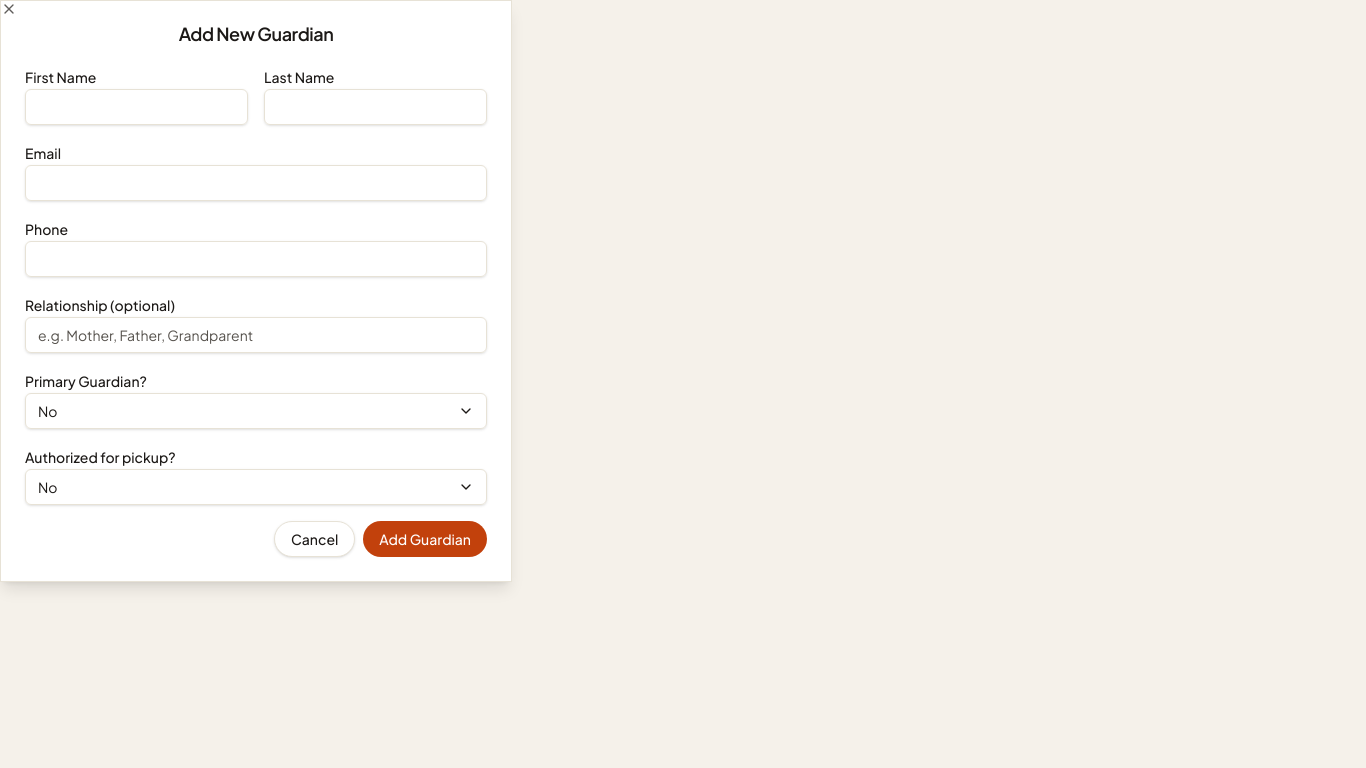
Test: ChildProfilePage › swallows rollback failures and still surfaces the original link error
The width and height of the screenshot is (1366, 768).
Type "Jordan" into the field labelled "First Name" at (136, 107), box x1=25 y1=89 x2=248 y2=125
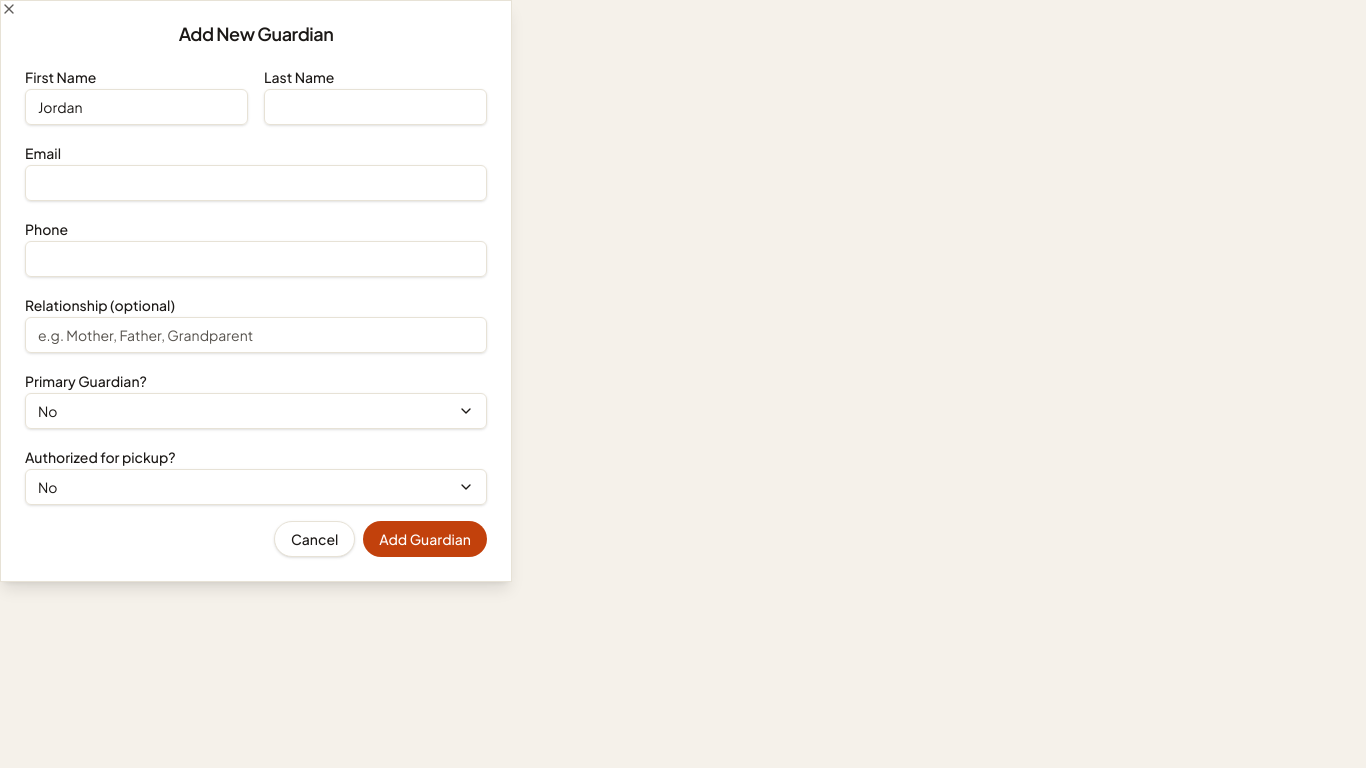
Type "Lee" into the field labelled "Last Name" at (376, 107), box x1=264 y1=89 x2=487 y2=125
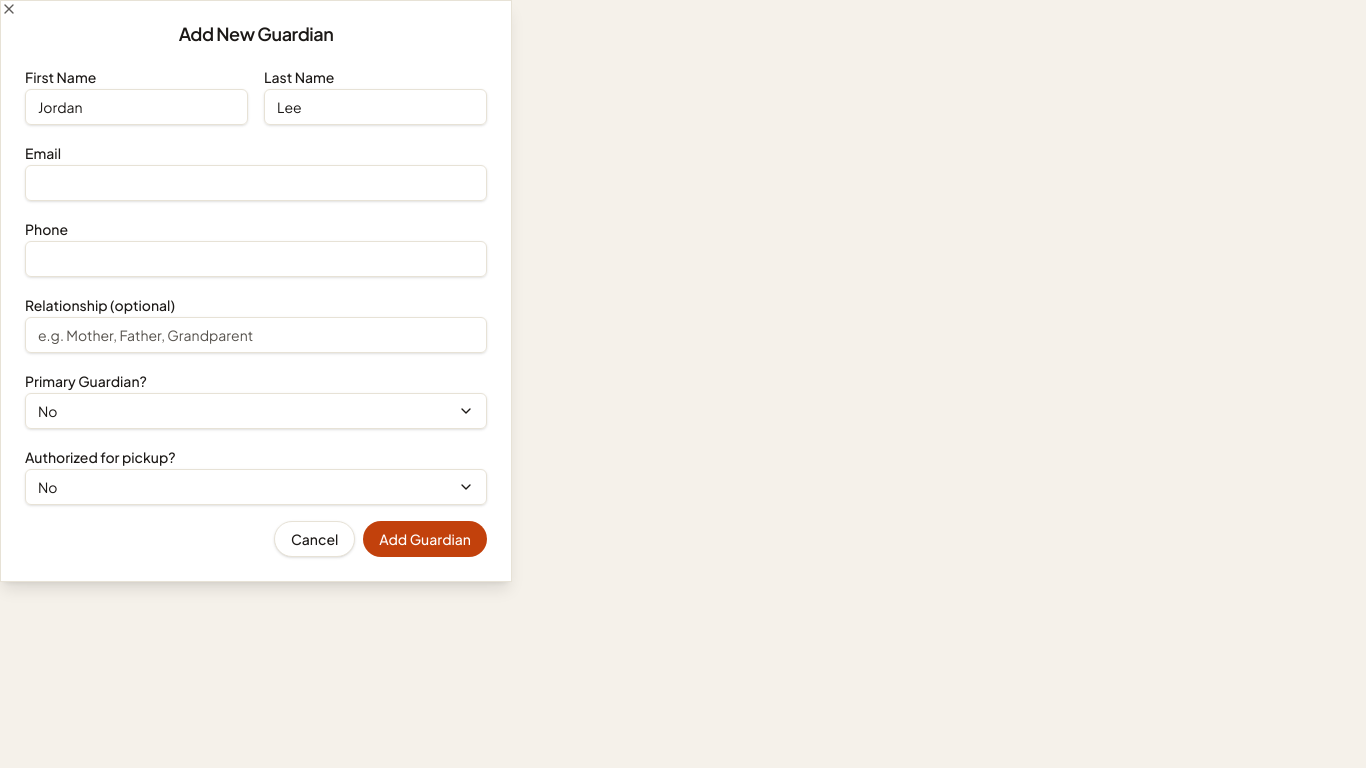
Click the button "Add Guardian" at (425, 539), box x1=363 y1=521 x2=487 y2=557
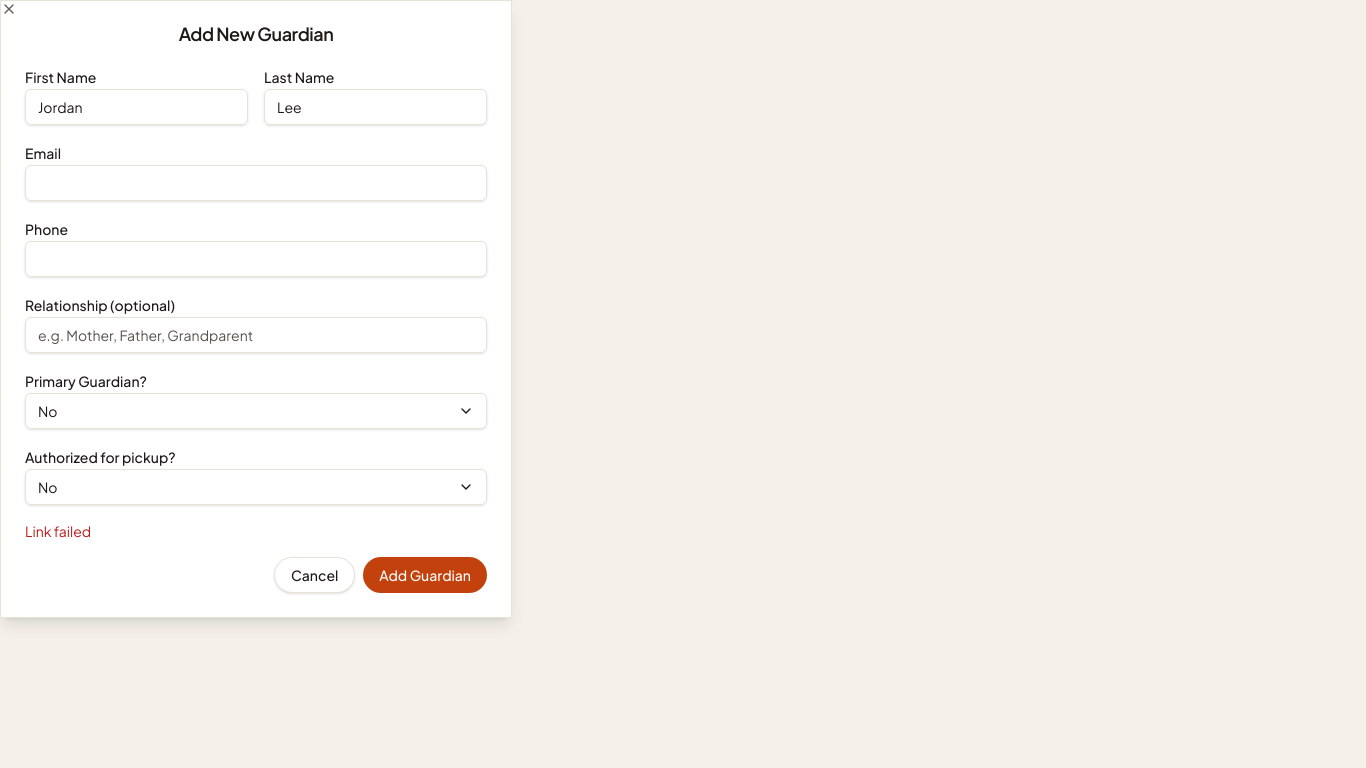
Expected: the message reads "Link failed", x1=25 y1=522 x2=91 y2=540
